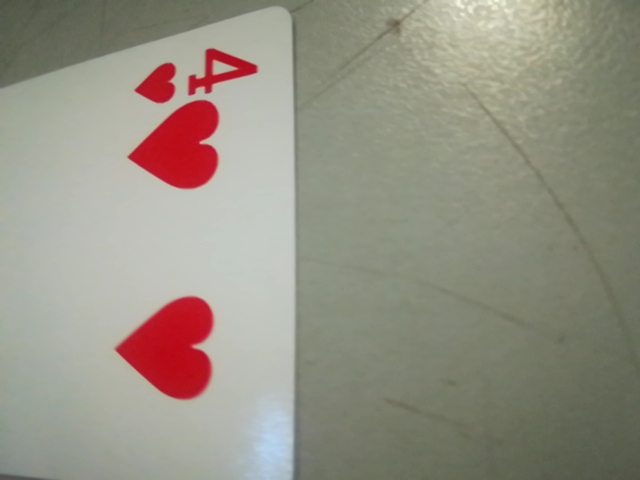hx 4: (124, 49, 258, 101)
